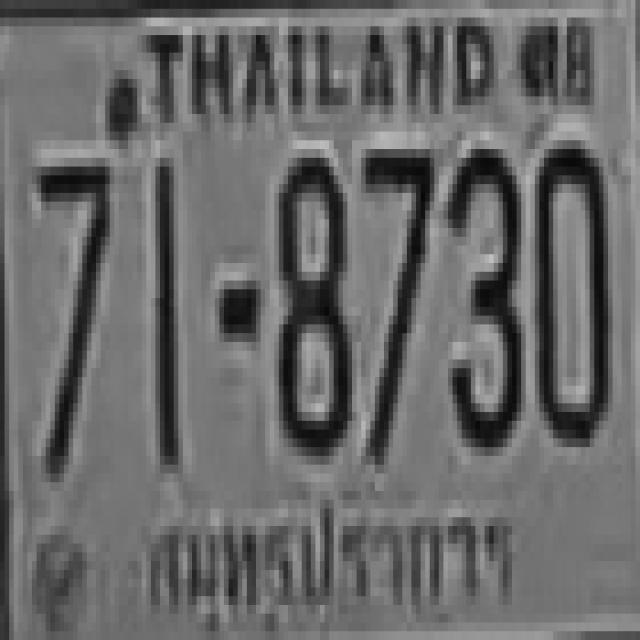0: (530, 132, 608, 438)
1: (151, 154, 174, 460)
3: (444, 140, 516, 447)
7: (34, 153, 108, 469), (361, 140, 430, 456)
8: (274, 149, 348, 447)
SamutPrakan: (133, 482, 530, 640)
